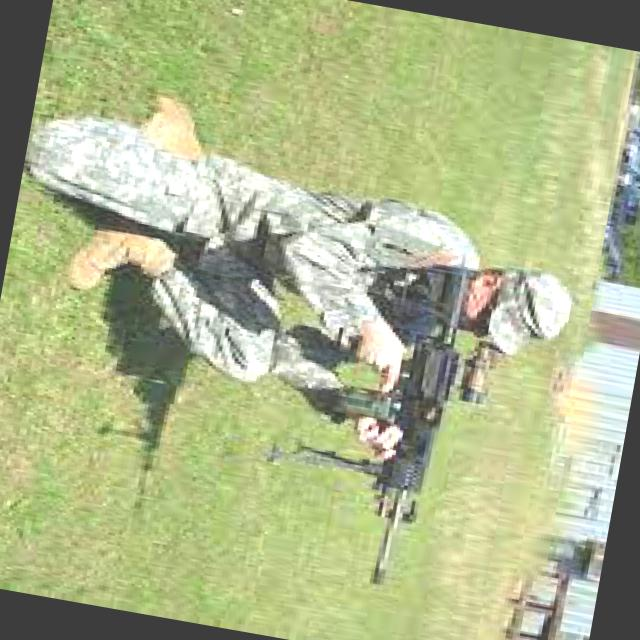long weapon: (293, 320, 501, 598)
